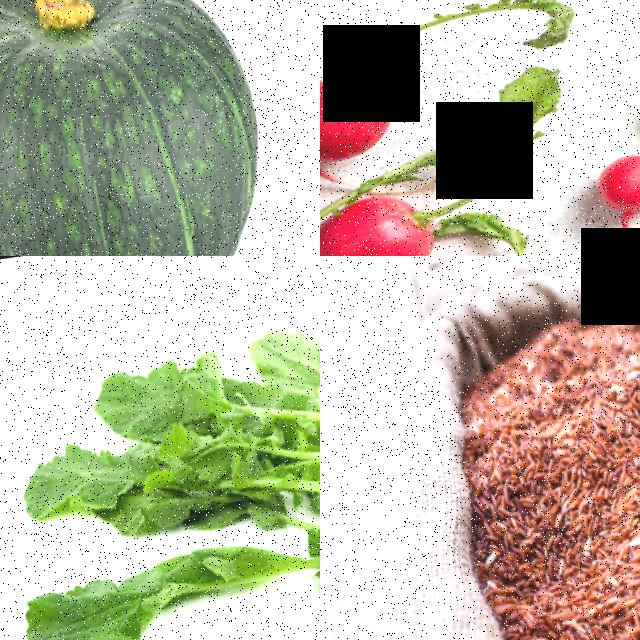pumpkin: (0, 0, 308, 256)
red rice: (455, 296, 640, 640)
spinach: (320, 159, 471, 256), (320, 36, 416, 182), (581, 102, 640, 225)
